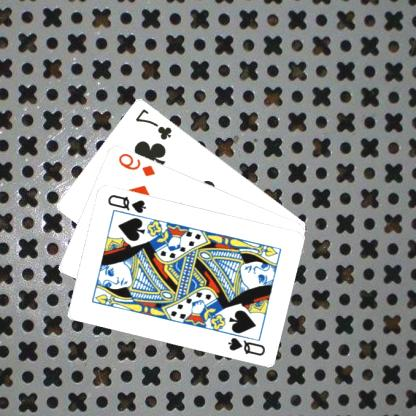7C: (134, 106, 176, 141)
9D: (117, 150, 158, 178)
QS: (106, 192, 149, 214), (227, 334, 268, 357)
